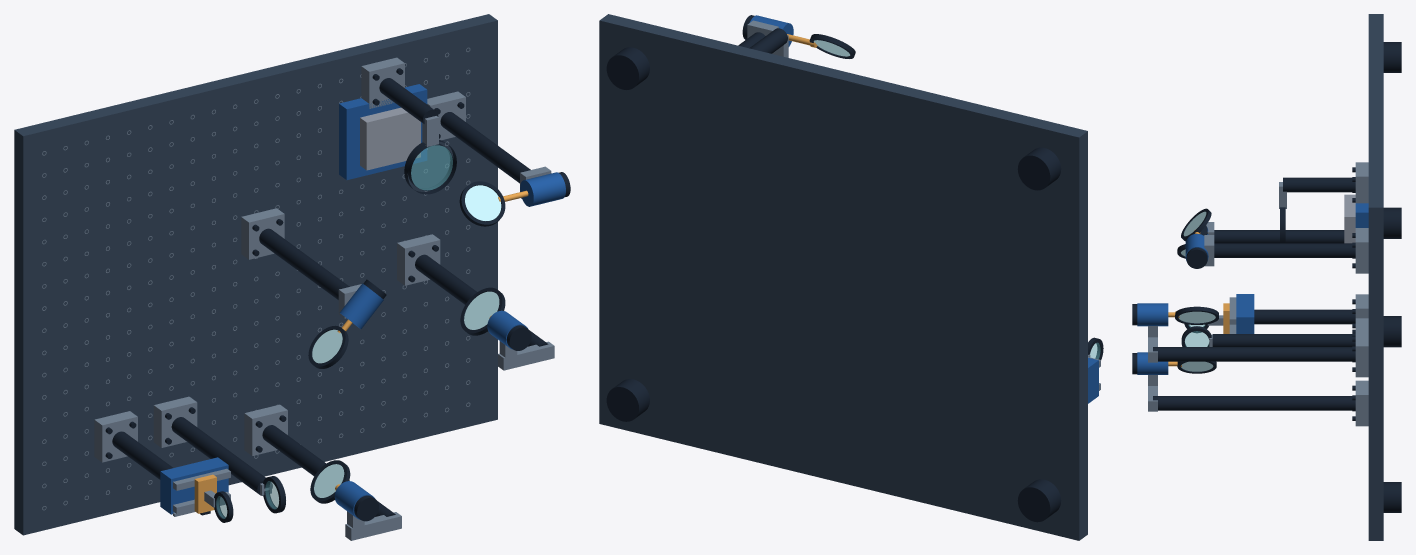
The model's file is 五轴扫描头-AOI正7度姿态-V2.glb.
3 renders of one model, left to right at view 1: azimuth 30°, elevation 25°; view 2: azimuth 150°, elevation 25°; view 3: azimuth 270°, elevation 25°, orthographic. The views are drawn at different scales.
Parts seen in each view (by area): view 1: 静止光学平台 560×450×18, 静止平台与工件, 工件_上表面Z0, 固定工件台_无电机, L2-立柱, M2-立柱, M4-立柱, M5-直线电机定子, L3-单片基体, L2-底座, M1-底座, M5-底座 (+21 smaller); view 2: 静止光学平台 560×450×18, 隔振脚_被动 (×4); view 3: 静止光学平台 560×450×18, M1-立柱, M3-立柱, 隔振脚_被动 (×4), M4-立柱, L2-立柱, M2-立柱, M5-立柱, L3-立柱, M5-直线电机定子, M3-旋转振镜电机, M1-底座 (+11 smaller).
Part boxes in pixels (<box>): 静止光学平台 560×450×18: <box>14,14,497,535</box>; 静止平台与工件: <box>42,47,470,510</box>; 工件_上表面Z0: <box>360,107,420,170</box>; 固定工件台_无电机: <box>339,84,427,179</box>; L2-立柱: <box>171,417,272,495</box>; M2-立柱: <box>259,228,349,299</box>; M4-立柱: <box>440,112,530,183</box>; M5-直线电机定子: <box>160,457,228,514</box>; L3-单片基体: <box>411,145,452,190</box>; L2-底座: <box>153,396,197,447</box>; M1-底座: <box>244,404,287,455</box>; M5-底座: <box>94,411,137,462</box>; 静止光学平台 560×450×18: <box>599,14,1087,540</box>; 隔振脚_被动 (×4): <box>606,47,1061,522</box>; 静止光学平台 560×450×18: <box>1368,14,1383,540</box>; M1-立柱: <box>1153,396,1355,410</box>; M3-立柱: <box>1153,347,1355,361</box>; 隔振脚_被动 (×4): <box>1383,42,1401,512</box>; M4-立柱: <box>1214,243,1355,257</box>; L2-立柱: <box>1212,334,1355,346</box>; M2-立柱: <box>1214,230,1344,243</box>; M5-立柱: <box>1254,309,1355,324</box>; L3-立柱: <box>1283,177,1355,192</box>; M5-直线电机定子: <box>1236,294,1254,333</box>; M3-旋转振镜电机: <box>1137,303,1168,326</box>; M1-底座: <box>1355,380,1368,426</box>.
Bounding box in the file's own units: 0.56 × 0.45 × 0.329.
